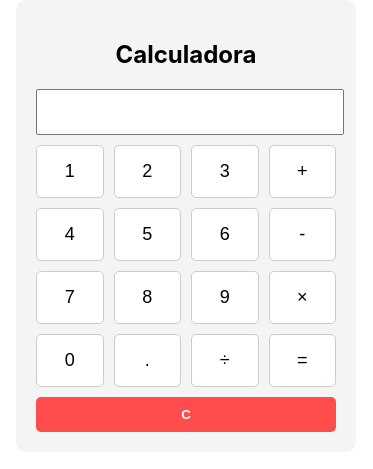
Test case: Componente Calculadora › realiza multiplicación correctamente
Click the button "4". click: click(70, 234)
box: left=36, top=208, right=104, bottom=261
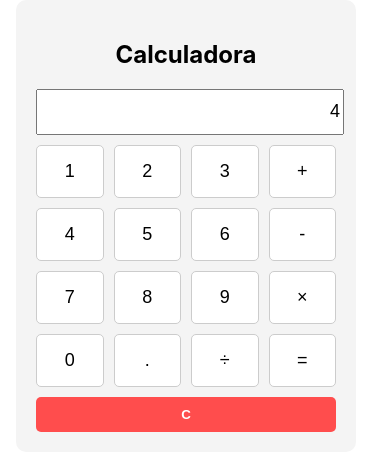
Click the button "×". click: click(302, 297)
box: left=268, top=271, right=336, bottom=324
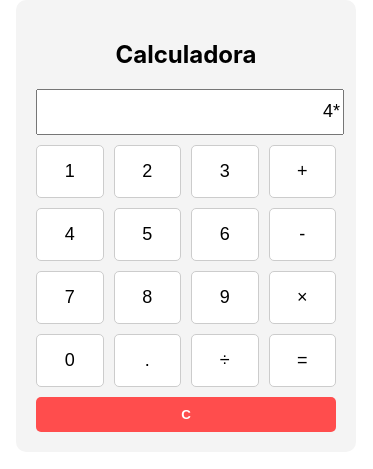
Click the button "3". click: click(225, 171)
box: left=191, top=145, right=258, bottom=198
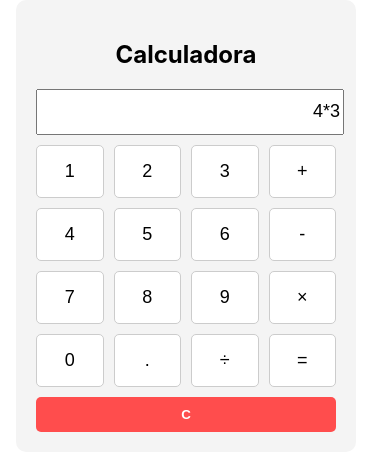
Click the button "=". click: click(302, 360)
box: left=268, top=334, right=336, bottom=387
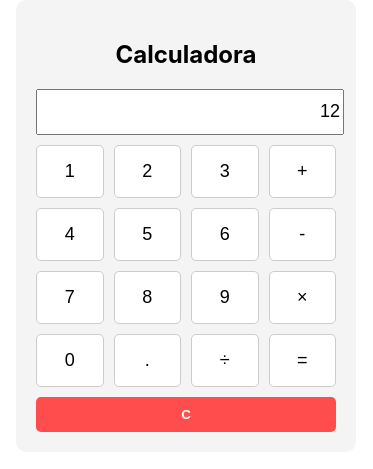
Check: the field holds "12", box left=36, top=89, right=344, bottom=135
